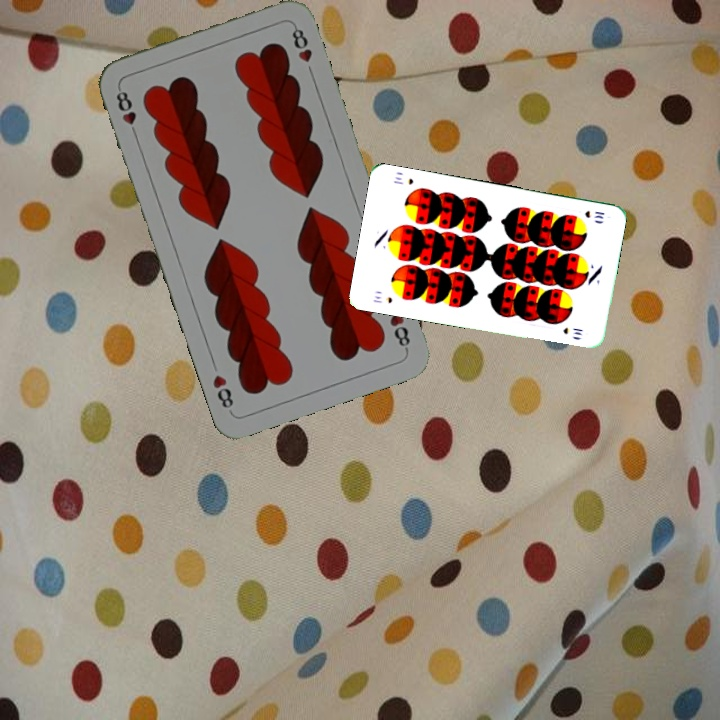H8: (112, 83, 141, 140), (385, 309, 413, 354)
S10: (581, 207, 607, 221), (369, 292, 395, 306)
